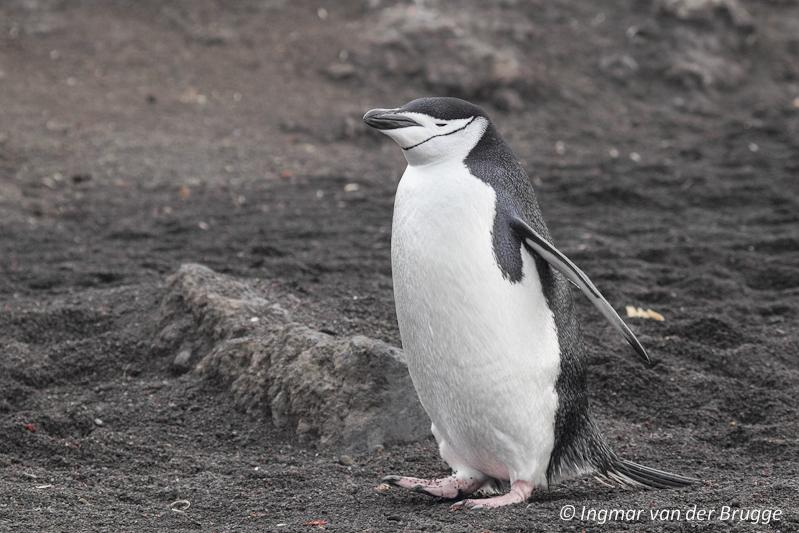chinstrap: (323, 87, 700, 533)
